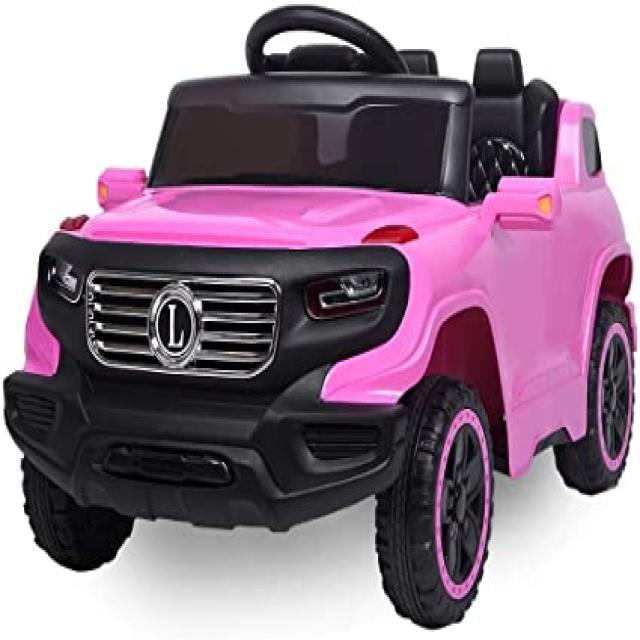Car: (1, 2, 638, 630)
